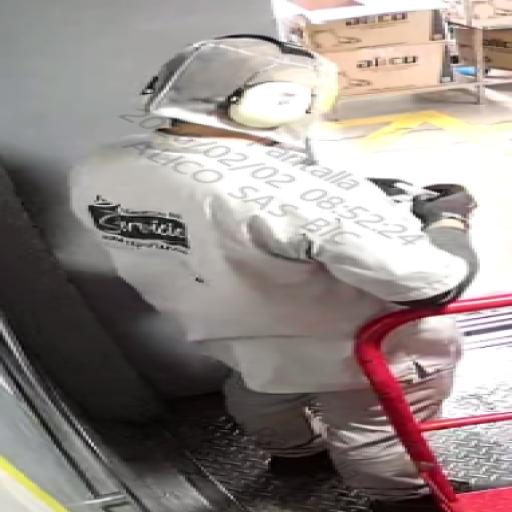person: (51, 12, 512, 512)
